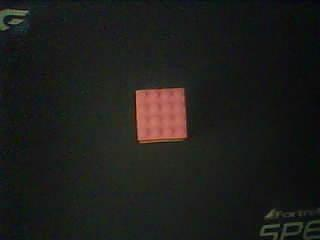lego: (135, 87, 187, 143)
